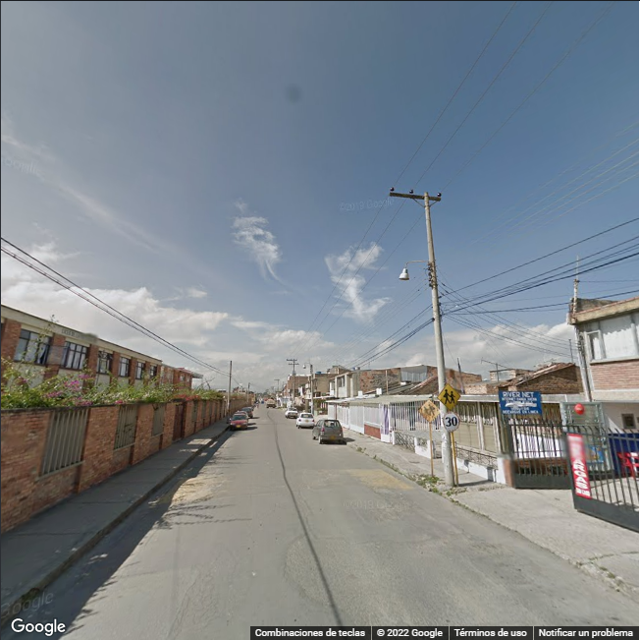D00: (168, 569, 199, 635)
D20: (196, 556, 235, 635)
